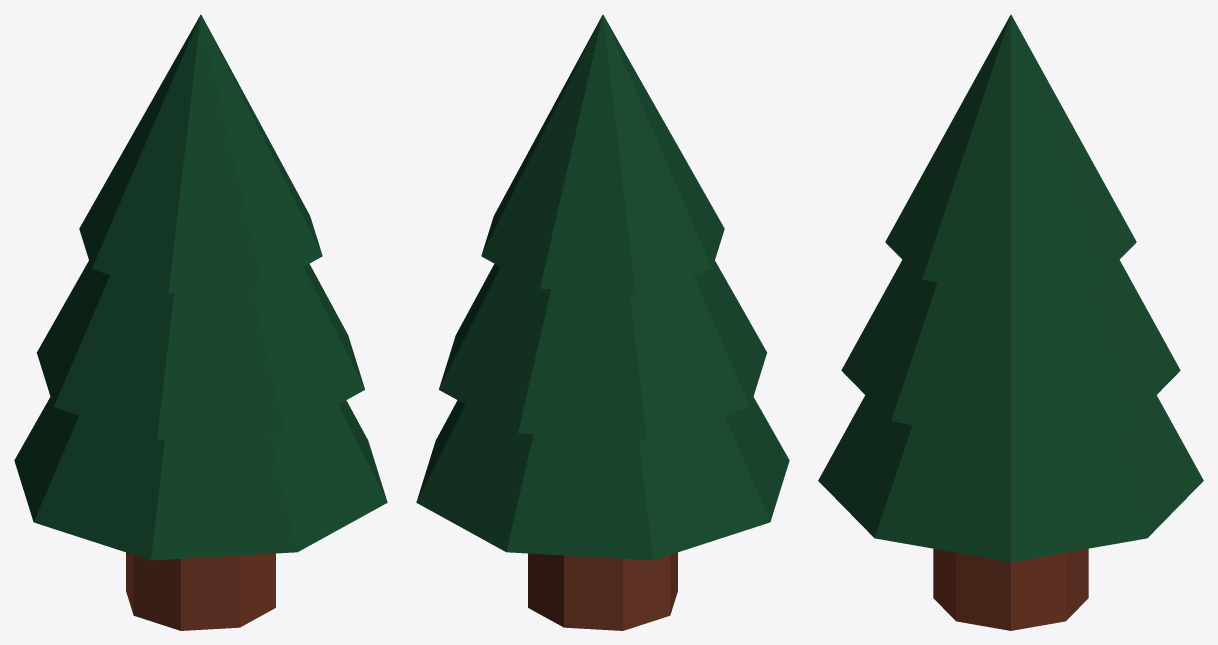
The model's file is LowPoly.glb.
The picture shows the model from 3 angles, left to right: view 1: azimuth 30°, elevation 25°; view 2: azimuth 150°, elevation 25°; view 3: azimuth 270°, elevation 25°; orthographic projection.
Parts seen in each view (by area): view 1: Tree1; view 2: Tree1; view 3: Tree1.
Boxes of the visible parts, x1,y1,x2,y2 form: Tree1: (14, 14, 387, 630); Tree1: (416, 14, 789, 630); Tree1: (818, 14, 1203, 630).
Size of the model in its own units: 4.97 by 8.3 by 4.97.
